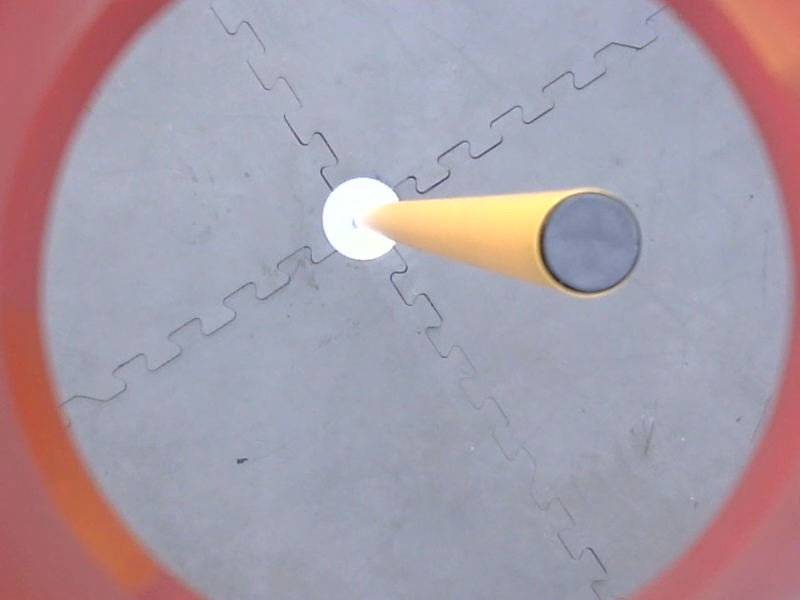tip: (533, 181, 652, 300)
